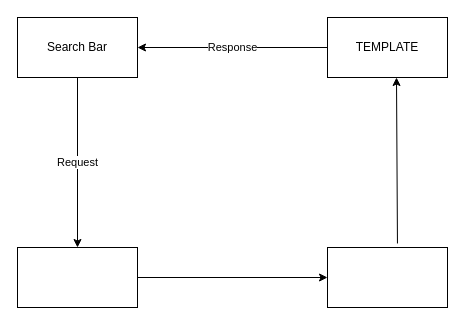
This 465x325 diagram has some shape labels left out. The shapes that lost their labels are listed below. From the top down, each one's centre as x and y in pixels, then its label:
At point 77,277: "URLS".
At point 387,277: "VIEWS".
